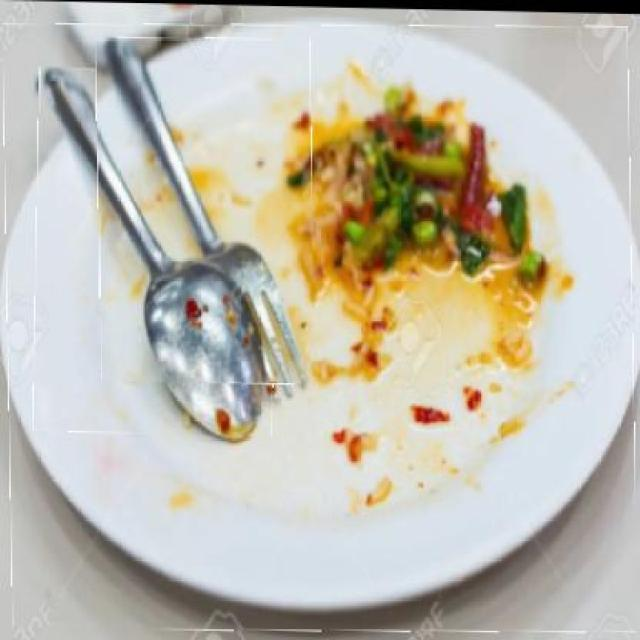Plate: (7, 16, 636, 636)
